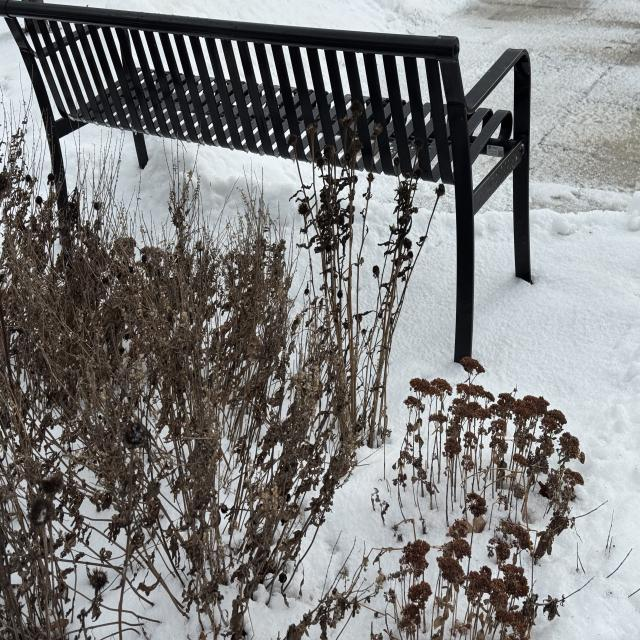Bench: (0, 1, 538, 374)
